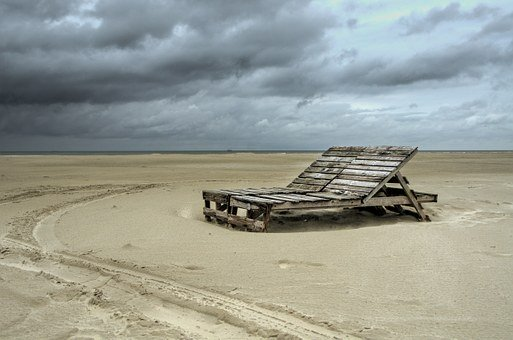beach: (7, 153, 511, 340)
sky: (1, 1, 507, 150)
